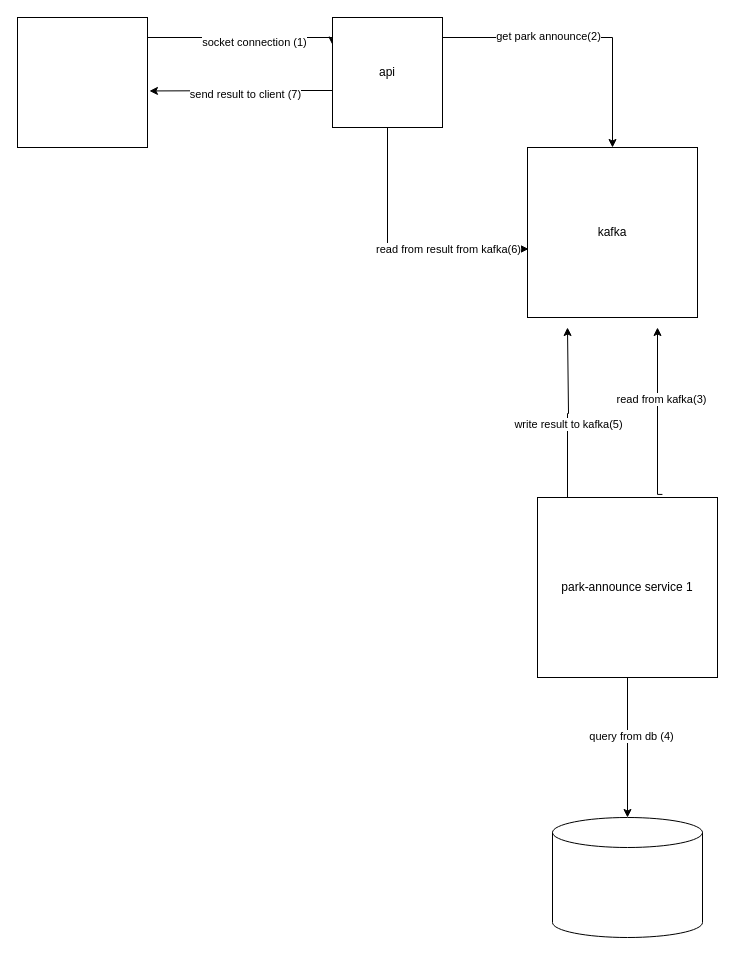
Image size: 735x955. Some labels were removed from this diagram. Each missing label, with the centre of its shape:
"client" belongs at (82,82).
"DB" belongs at (627,877).
